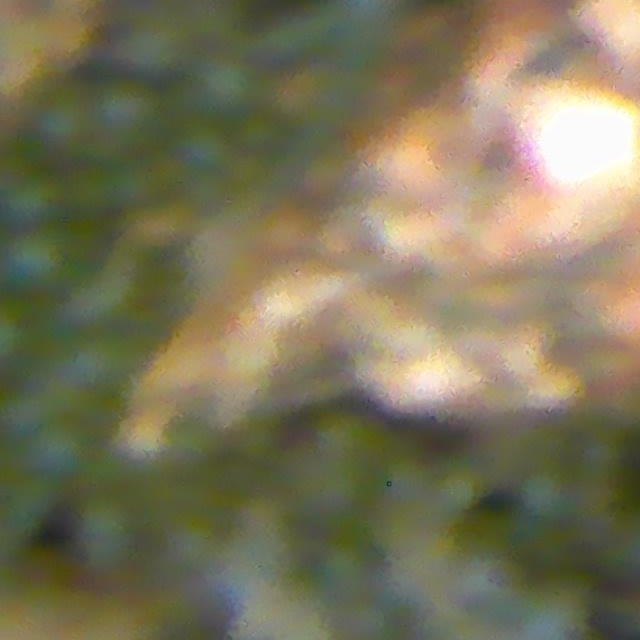SeaGrape: (92, 78, 164, 153), (74, 494, 141, 570), (1, 225, 71, 294), (193, 52, 263, 120), (26, 414, 95, 481), (32, 85, 96, 154), (175, 120, 233, 177)
